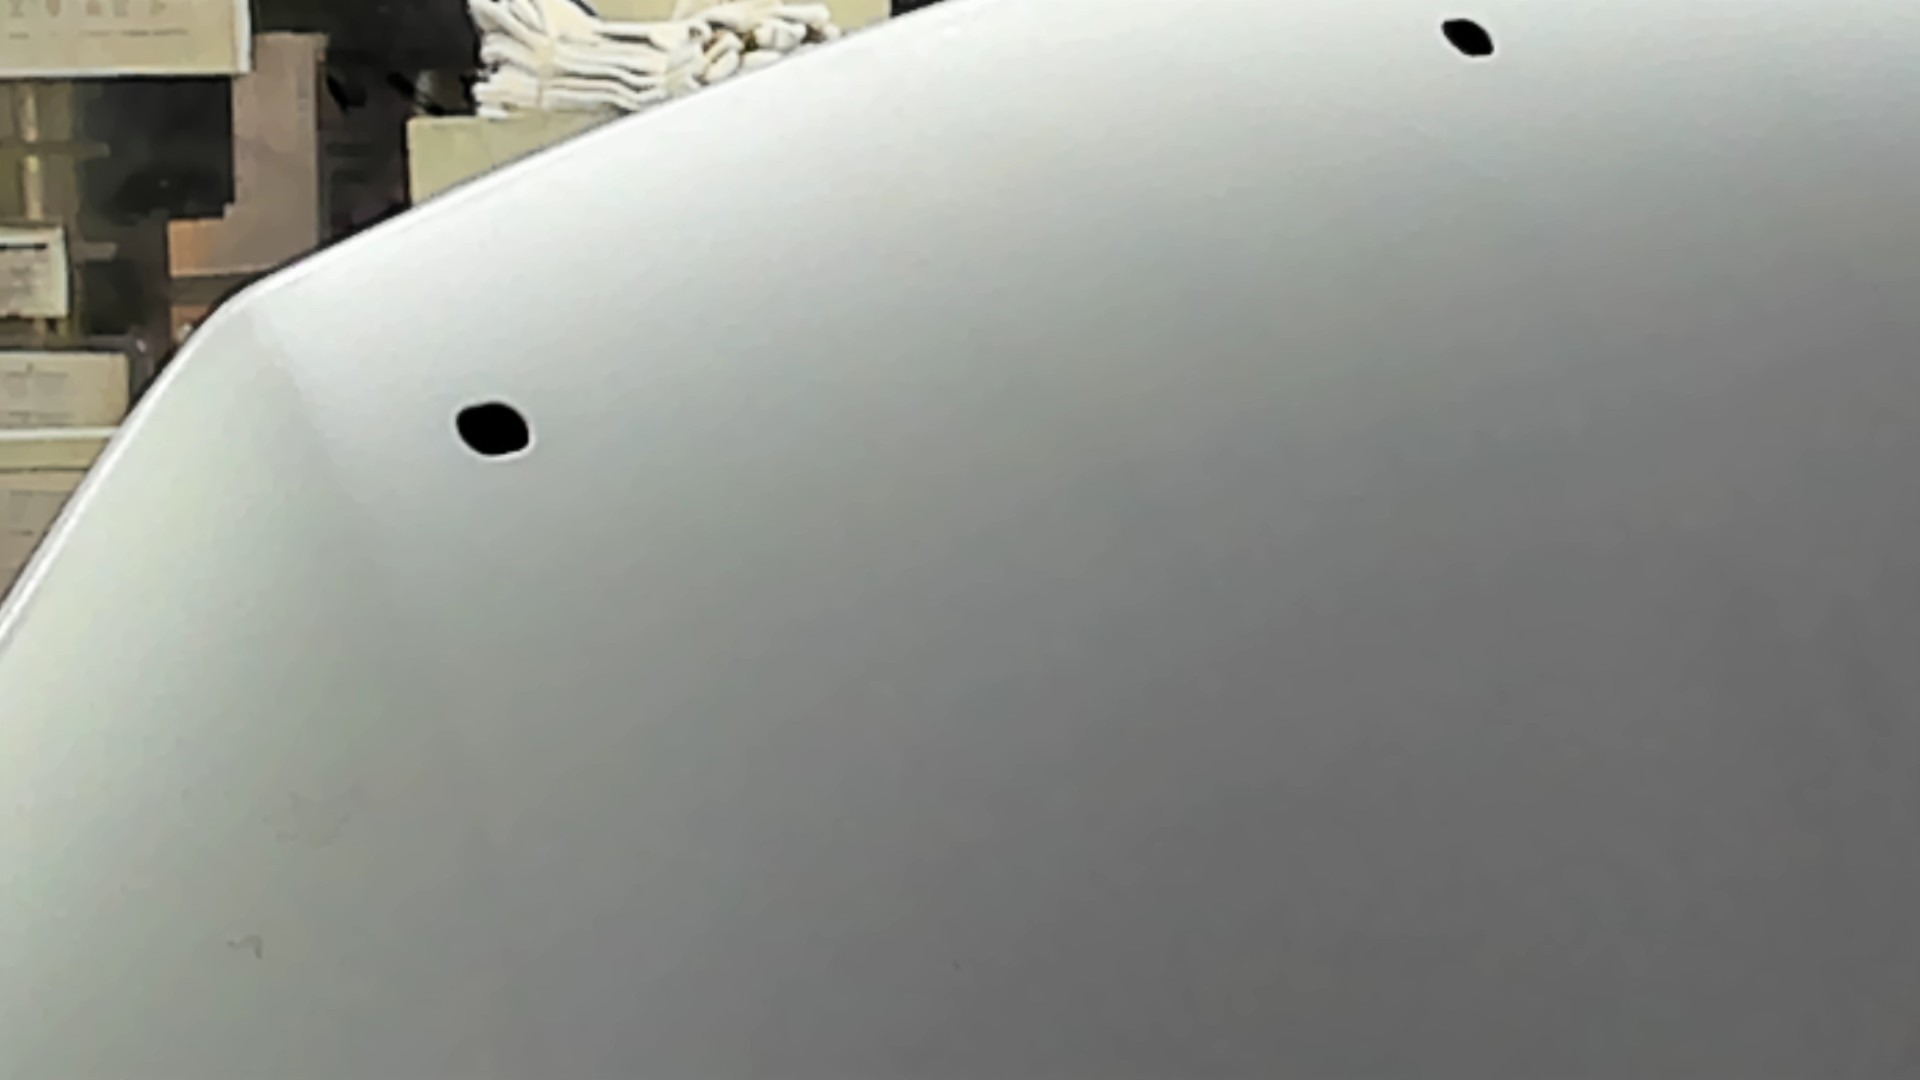amorfo: (448, 400, 538, 460), (1433, 15, 1505, 63)
